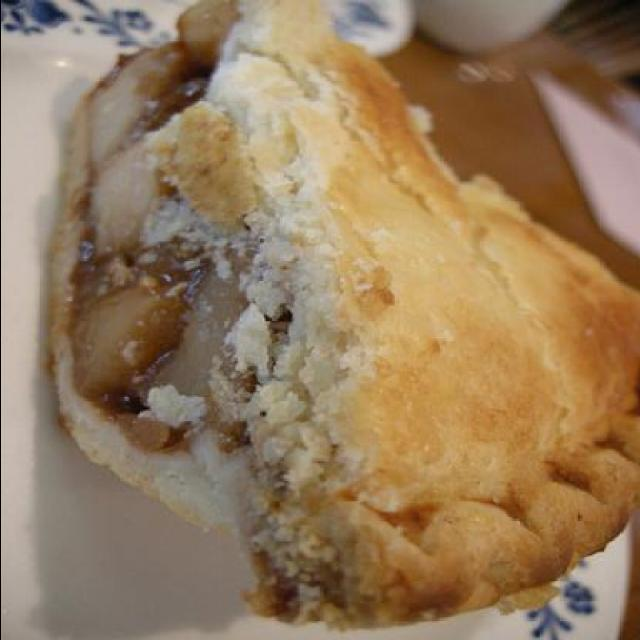Apple: (49, 10, 632, 630)
